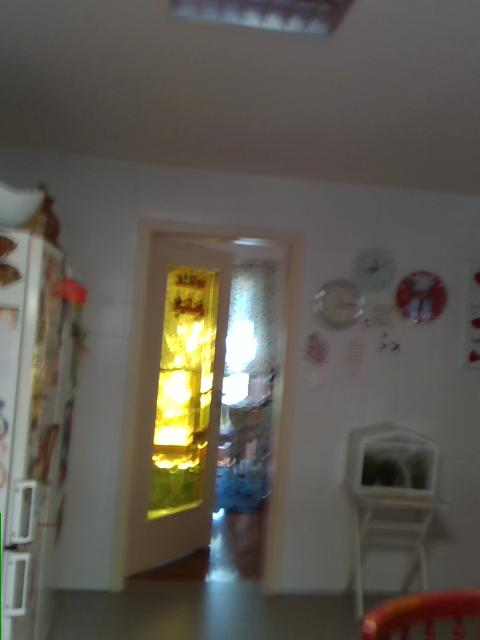semi_door: (111, 220, 307, 592)
